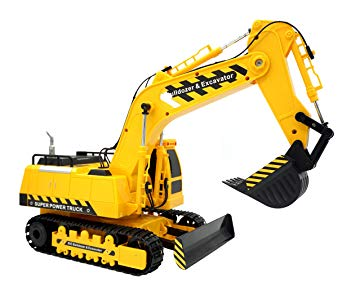backhoe: (11, 17, 336, 274)
